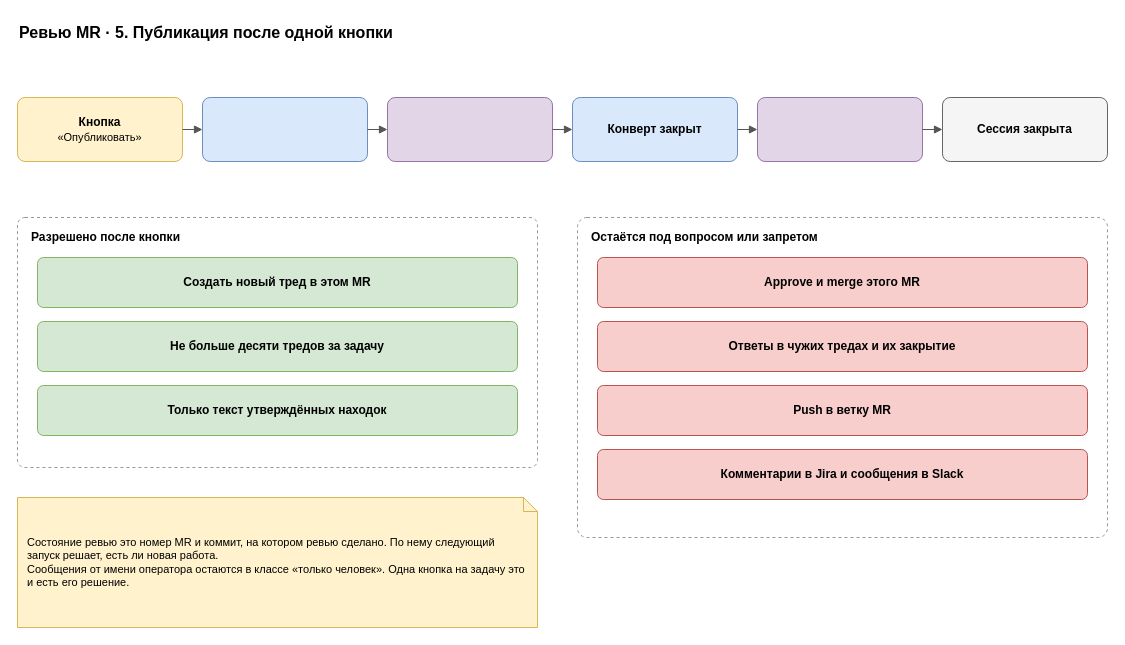
The diagram is 1125 pixels wide and 645 high, and some of its shapes have lost their labels. Each missing label, with the centre of its shape:
"Запись журнал, память, состояние" belongs at point 839,129.
"Конверт открыт новые треды в этом MR" belongs at point 285,129.
"Публикация до десяти тредов" belongs at point 469,129.
